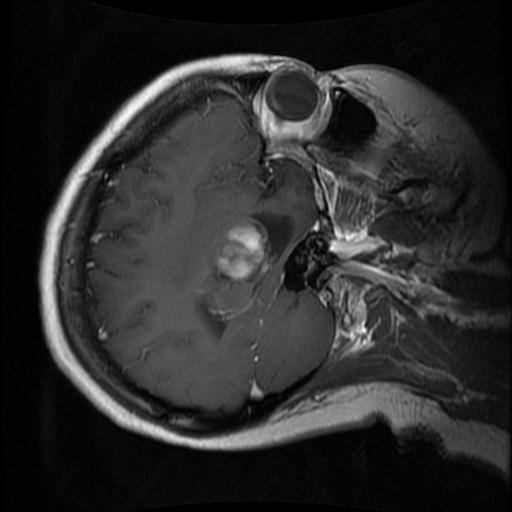glioma: (211, 212, 292, 287)
